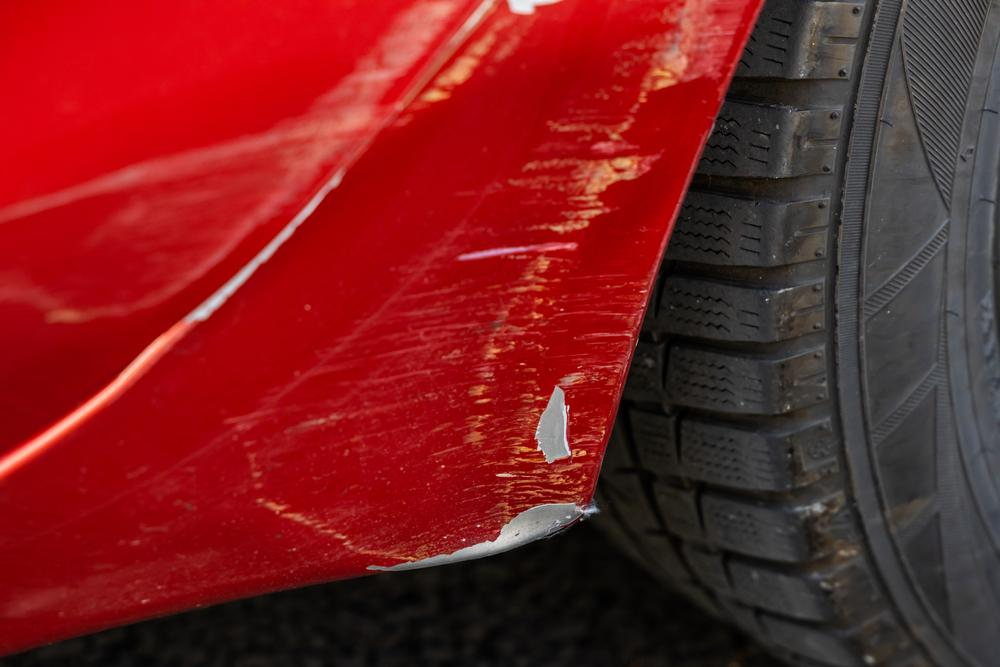scratch: (232, 0, 764, 567)
